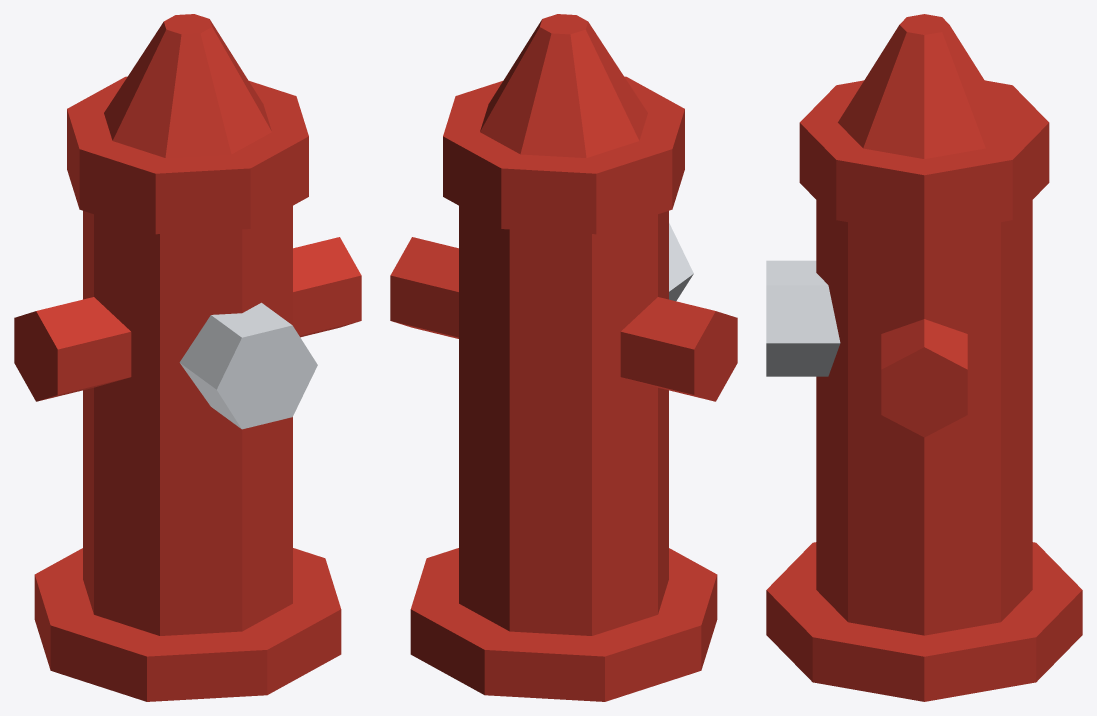
The model's file is hydrant.glb.
3 renders of one model, left to right at view 1: azimuth 30°, elevation 25°; view 2: azimuth 150°, elevation 25°; view 3: azimuth 270°, elevation 25°, orthographic.
Parts seen in each view (by area): view 1: hydrant; view 2: hydrant; view 3: hydrant.
Part boxes in pixels (box(x1,y1,x2,y2)): hydrant: box(14, 14, 361, 701); hydrant: box(390, 14, 737, 701); hydrant: box(766, 14, 1082, 701).
Bounding box in the file's own units: 0.42 × 0.81 × 0.38.
